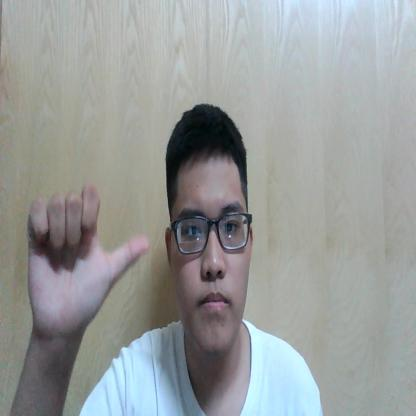left: (27, 182, 147, 321)
